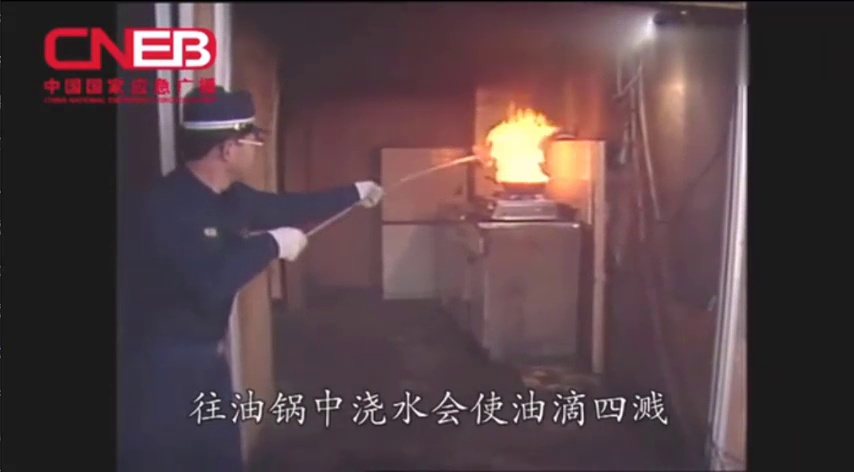fire: (476, 92, 558, 186)
